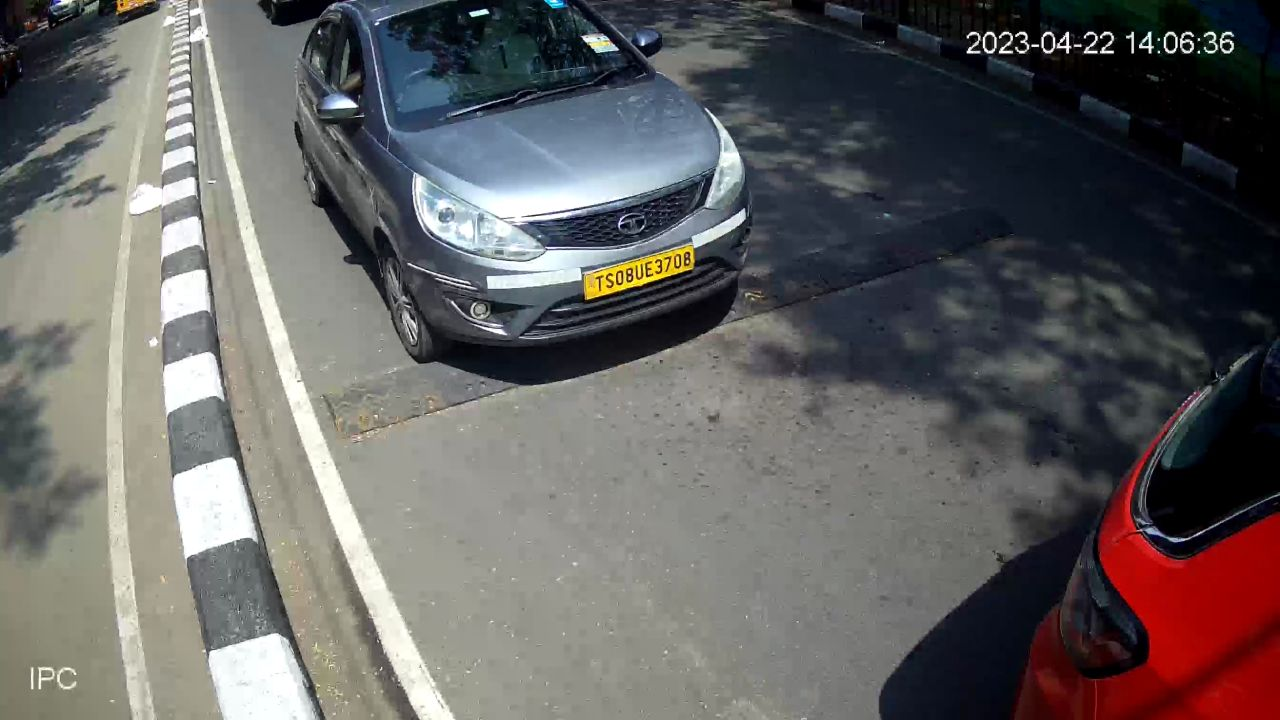license_plate: (577, 235, 699, 309)
